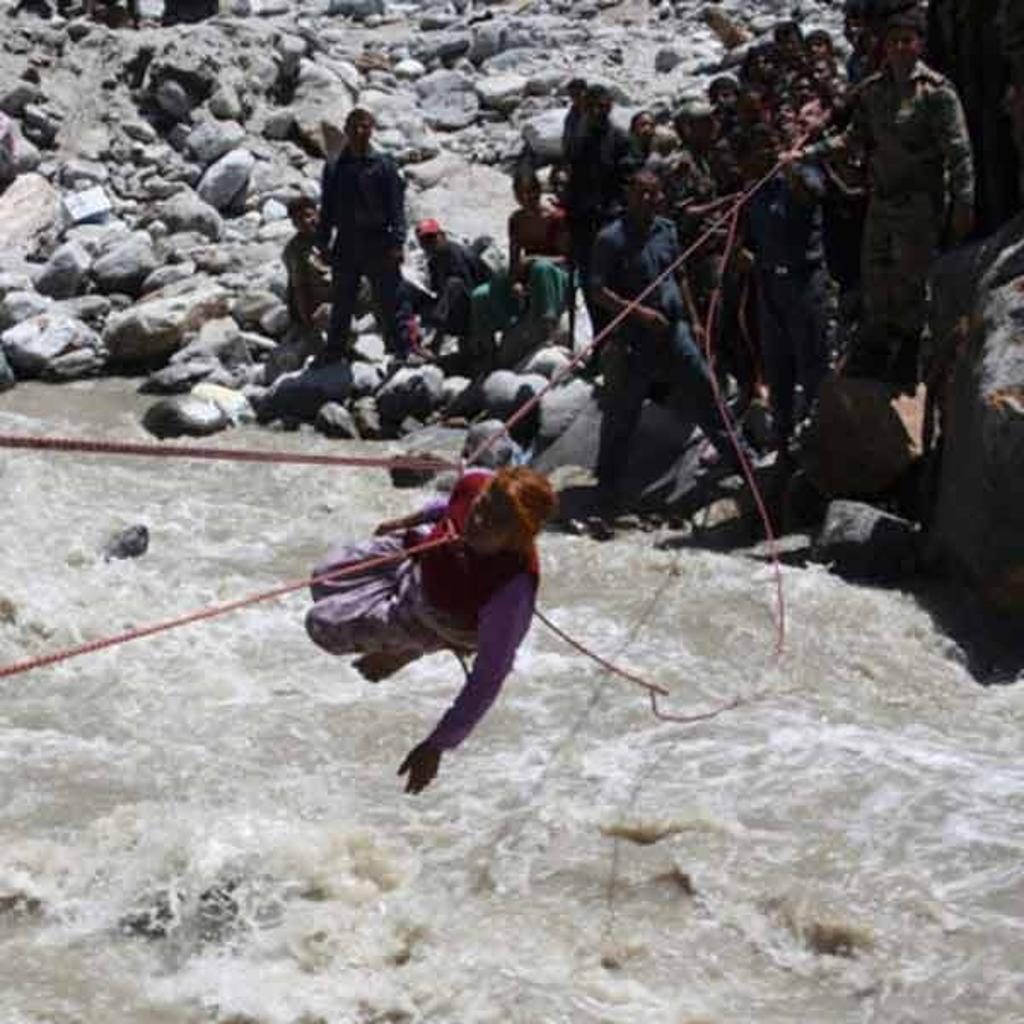face: (466, 484, 517, 552), (629, 179, 661, 215), (887, 26, 918, 62), (775, 26, 807, 57), (753, 133, 781, 162), (348, 116, 373, 148), (710, 85, 738, 112), (584, 95, 611, 122), (294, 207, 320, 235), (798, 102, 823, 130), (809, 58, 832, 87), (774, 102, 797, 130), (515, 183, 539, 209), (791, 79, 814, 105), (633, 114, 657, 137), (808, 32, 827, 60), (419, 231, 442, 254), (777, 66, 796, 88), (449, 277, 465, 292)
